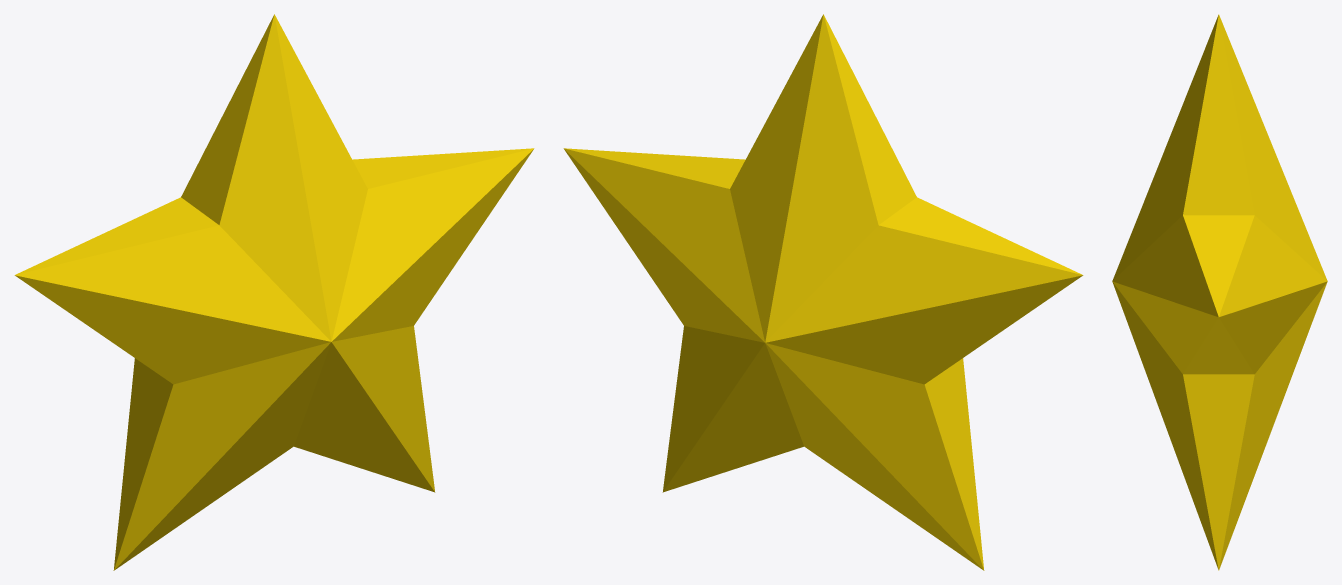
Rendered from star.glb.
3 views of the same model, side by side, from view 1: azimuth 30°, elevation 25°; view 2: azimuth 150°, elevation 25°; view 3: azimuth 270°, elevation 25° (orthographic). The views are drawn at different scales.
Visible parts, largest first — view 1: Cylinder; view 2: Cylinder; view 3: Cylinder.
Part boxes in pixels (<box>): Cylinder: <box>14,14,534,570</box>; Cylinder: <box>563,14,1083,570</box>; Cylinder: <box>1112,14,1327,570</box>.
Size of the model in its own units: 1.9 by 1.81 by 0.7304.
